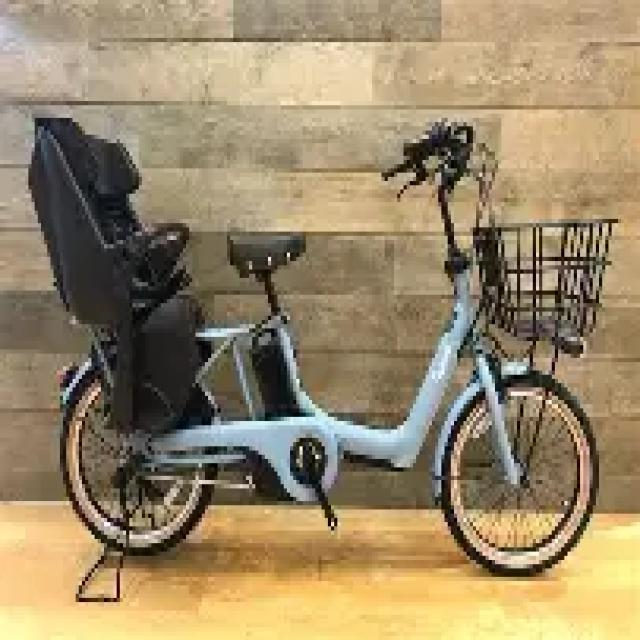basket: (472, 217, 622, 355)
battery: (246, 328, 299, 431)
childseat: (26, 112, 216, 451)
